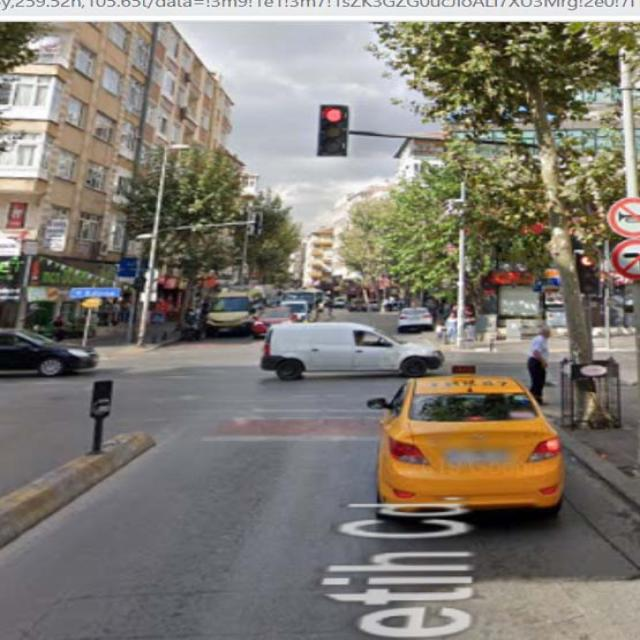kirmizi: (318, 104, 347, 155)
